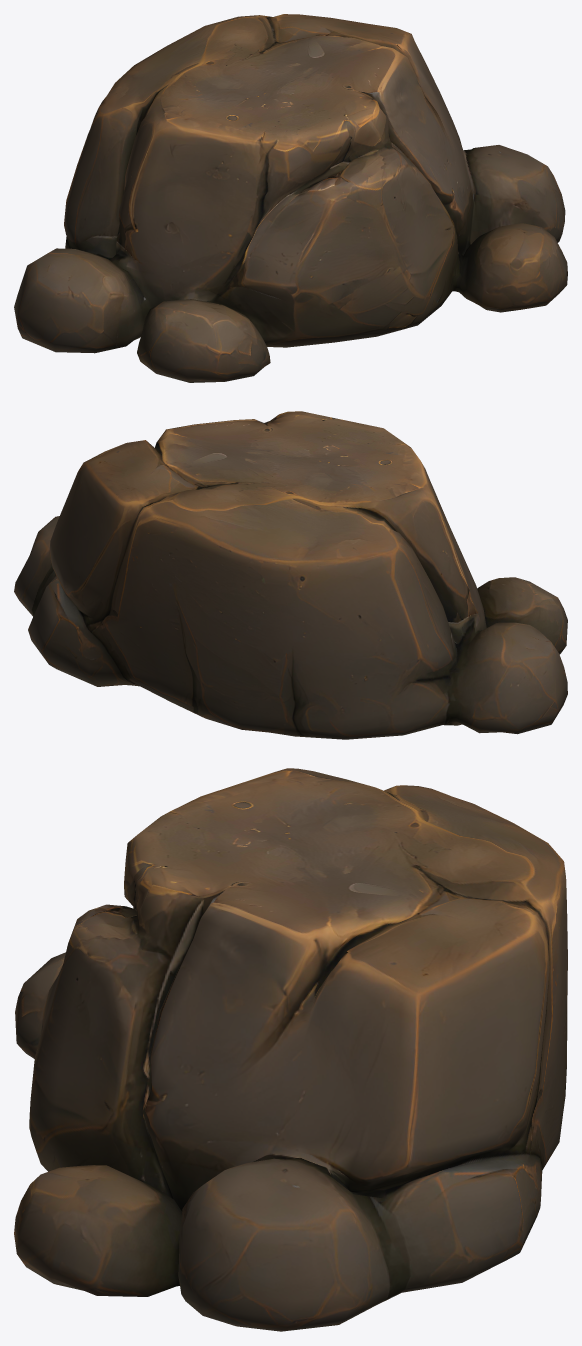
Rendered from pila_de_rocas_chica.fbx.
3 views of the same model, one above another, from view 1: azimuth 30°, elevation 25°; view 2: azimuth 150°, elevation 25°; view 3: azimuth 270°, elevation 25° (orthographic). The views are drawn at different scales.
Visible parts, largest first — view 1: tripo_node_31461e5d; view 2: tripo_node_31461e5d; view 3: tripo_node_31461e5d.
Part boxes in pixels (<box>): tripo_node_31461e5d: <box>14,14,567,382</box>; tripo_node_31461e5d: <box>14,411,567,739</box>; tripo_node_31461e5d: <box>14,768,567,1331</box>.
Bounding box in the file's own units: 99.78 × 36.39 × 61.09.
1 material, 1 textured.
